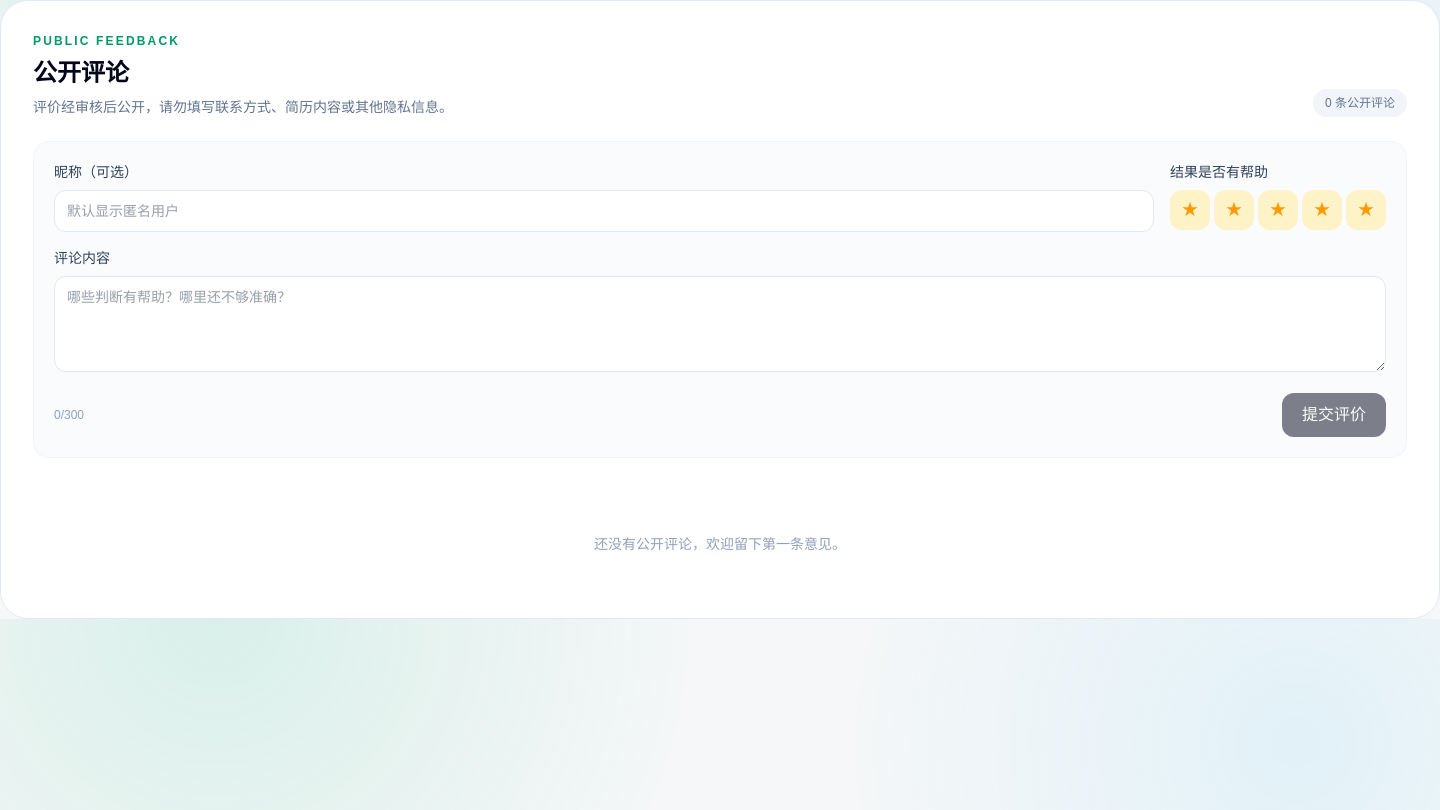
Test: CommentsSection › submits a comment for review without adding it to the public list
This screenshot has width=1440, height=810.
Expected: the text "还没有公开评论，欢迎留下第一条意见。" is shown, [594,536,846,552]
Click the button named "4 星". click: [1322, 210]
box: [1302,190,1342,230]
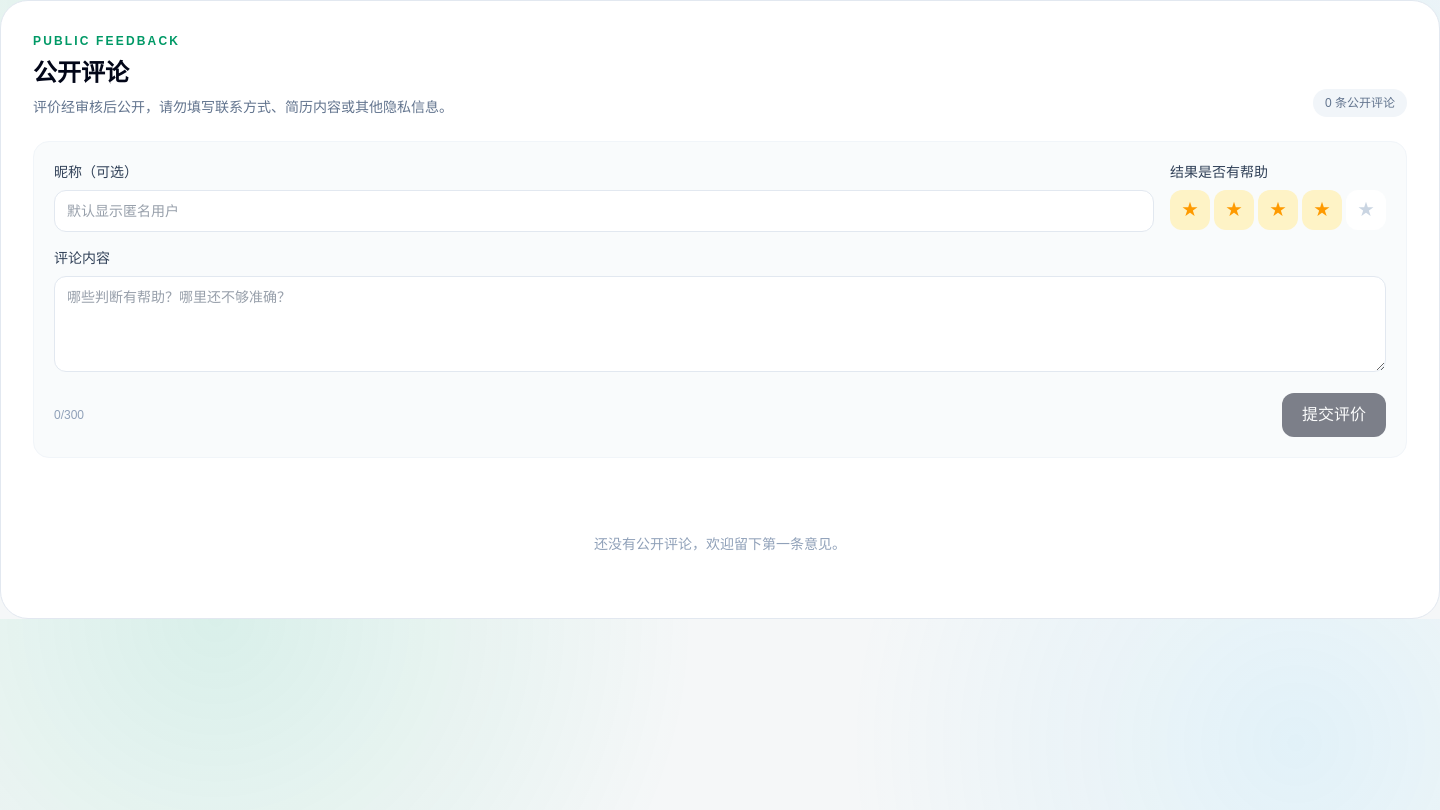
Type "希望增加更多岗位案例。" into the text box labelled "评论内容". click: [720, 324]
box: [54,276,1386,372]
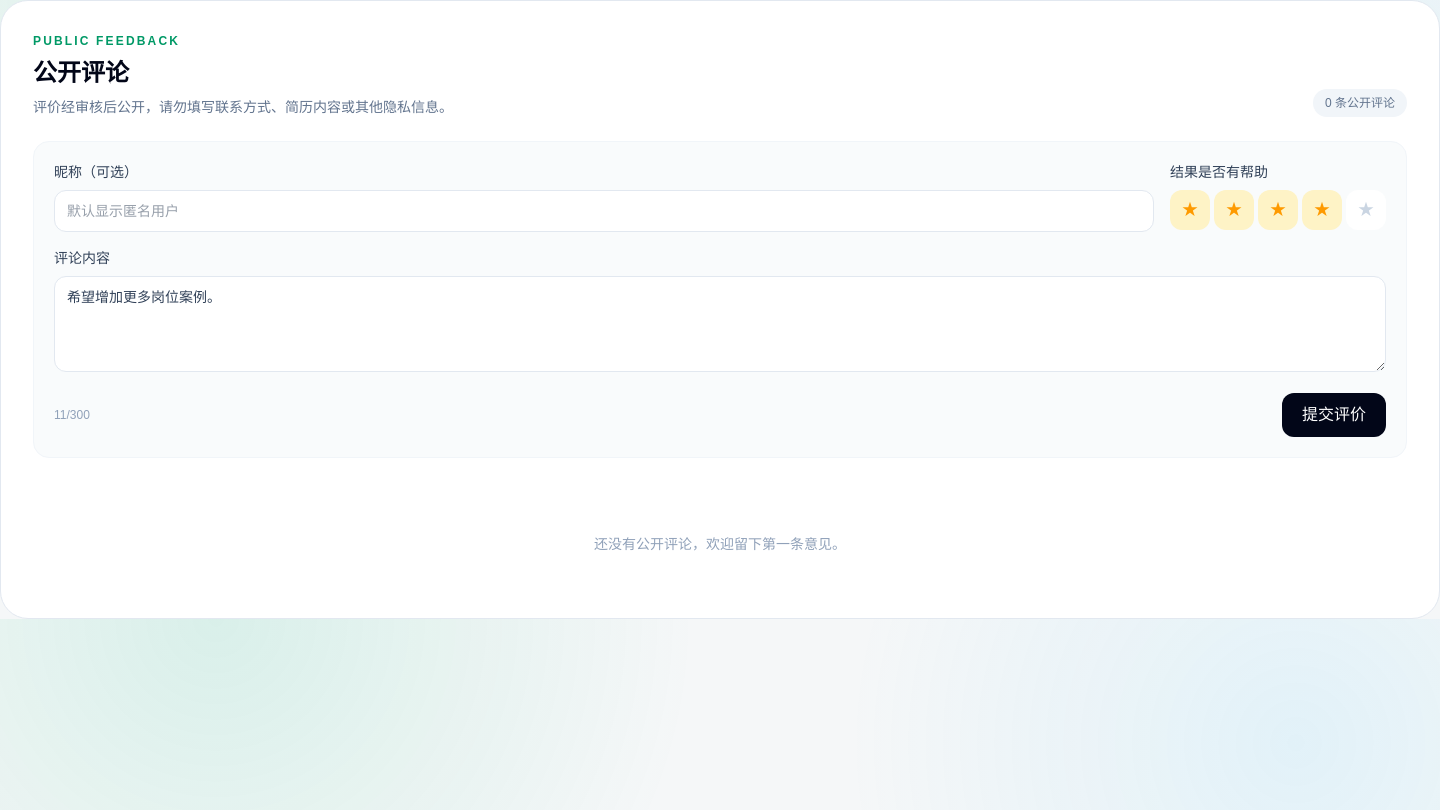
Click the button "提交评价". click: [1334, 415]
box: [1282,393,1386,437]
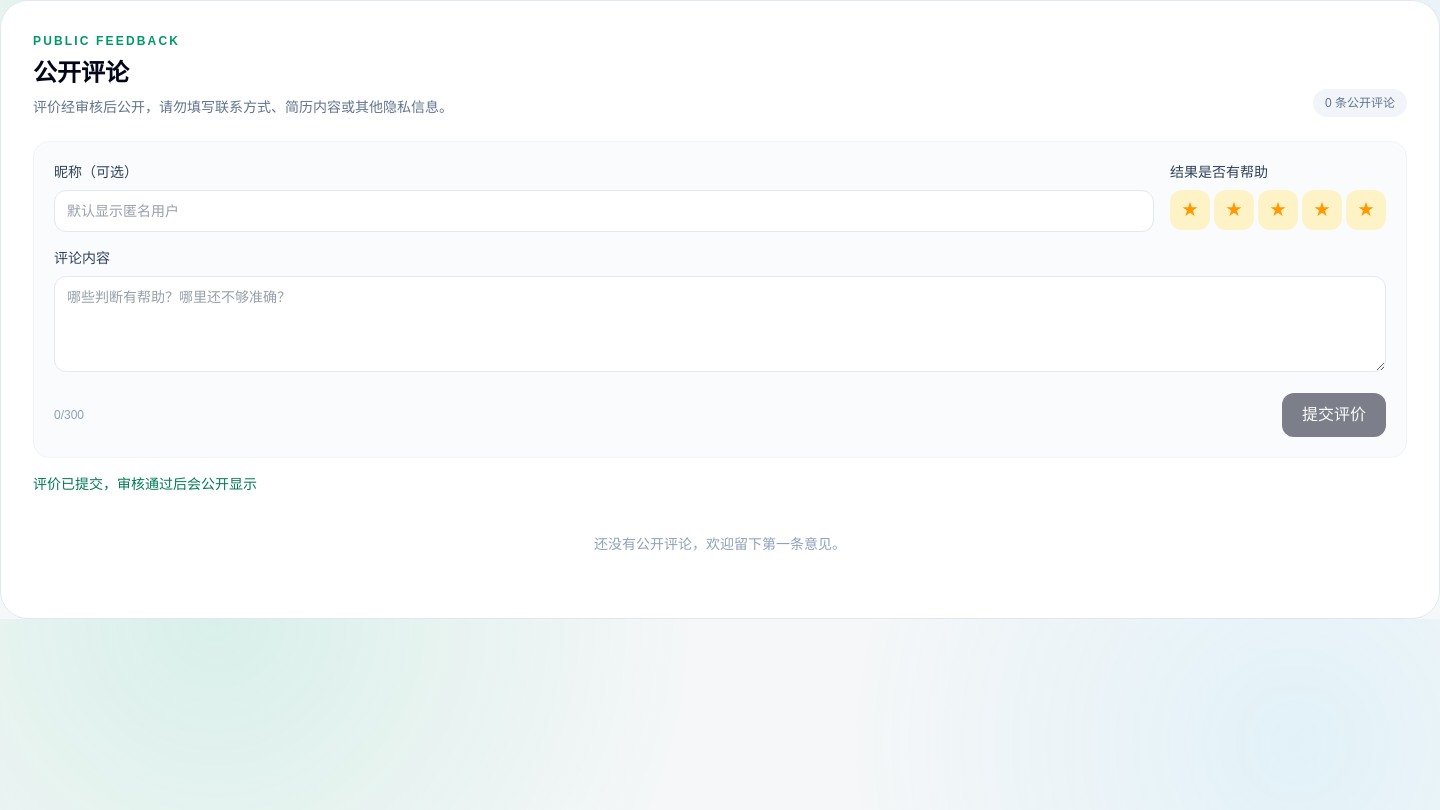
Expected: the text "希望增加更多岗位案例。" is not shown
Now the text "评价已提交，审核通过后会公开显示" is shown, box [33,476,257,492]
